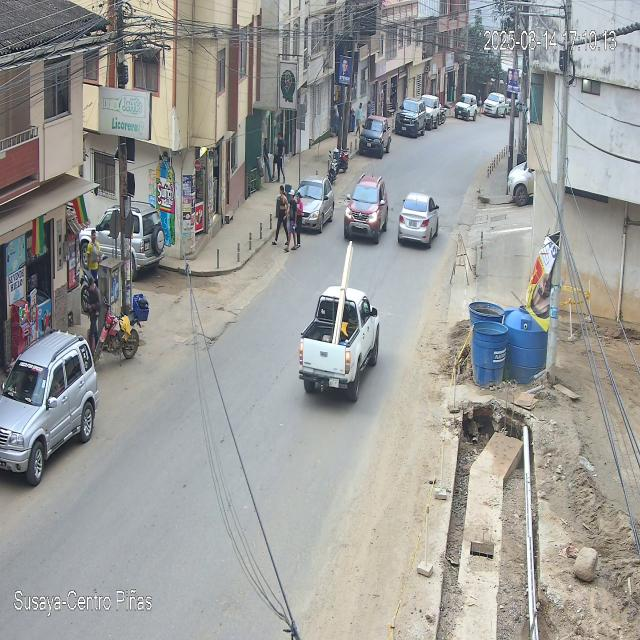CMT: (297, 286, 381, 402)
SED: (398, 193, 441, 251)
SUV: (344, 174, 390, 247)
